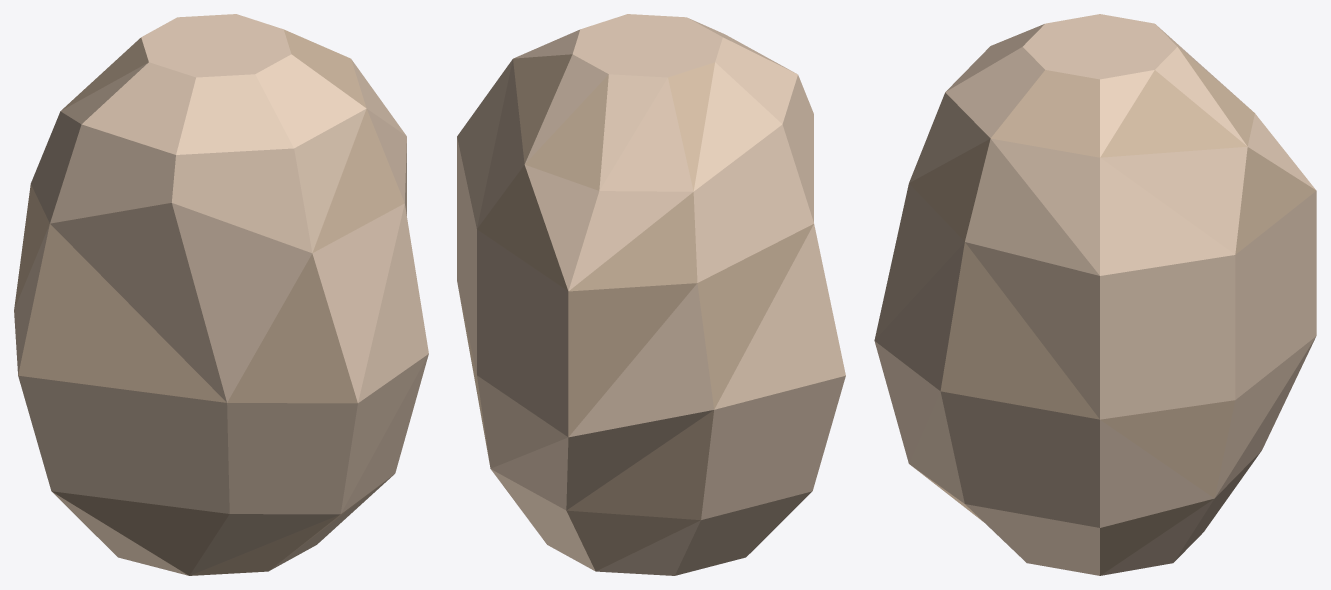
The model's file is Potato.fbx.
The picture shows the model from 3 angles, left to right: view 1: azimuth 30°, elevation 25°; view 2: azimuth 150°, elevation 25°; view 3: azimuth 270°, elevation 25°; orthographic projection.
Parts seen in each view (by area): view 1: Potato; view 2: Potato; view 3: Potato.
Part boxes in pixels (<box>): Potato: <box>14,14,428,575</box>; Potato: <box>457,14,845,575</box>; Potato: <box>874,14,1316,575</box>.
Size of the model in its own units: 0.1246 by 0.1493 by 0.1232.
